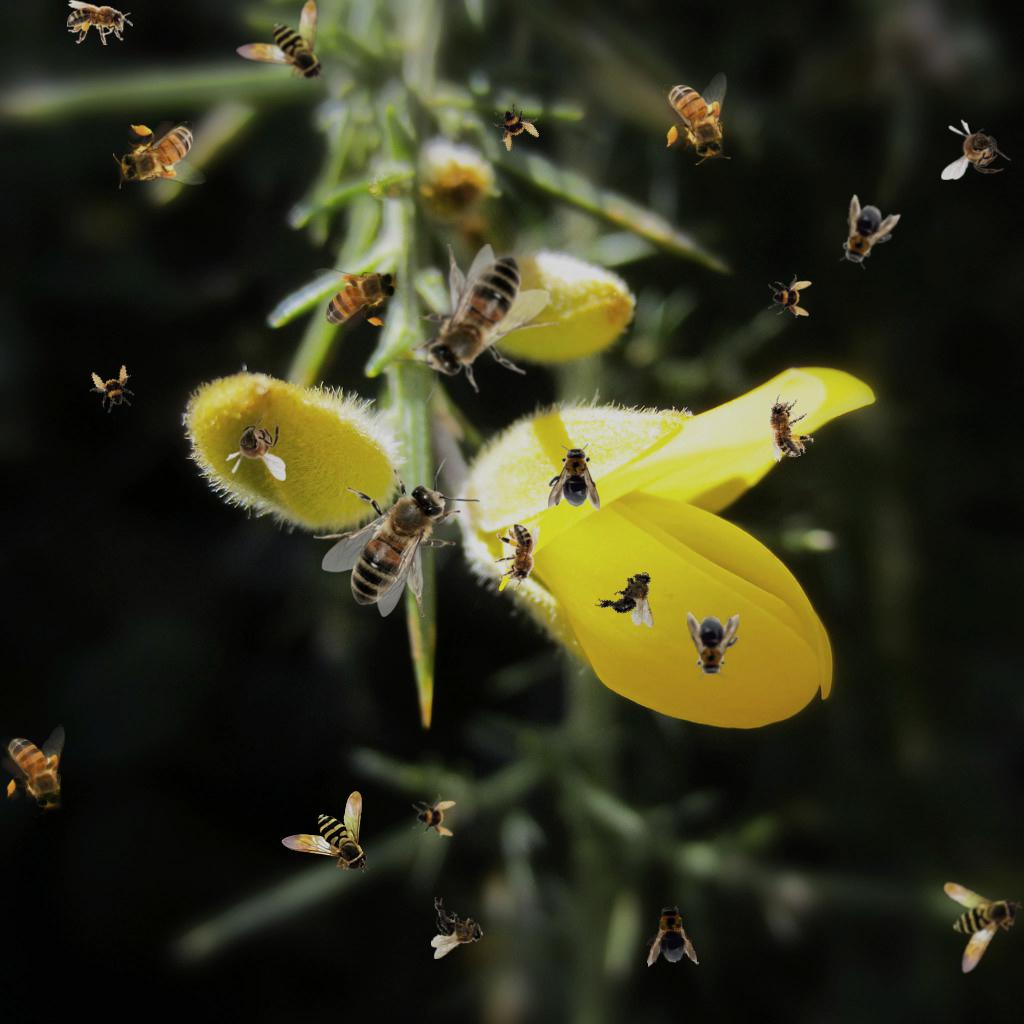Bee: (313, 455, 480, 617), (392, 244, 559, 406), (916, 873, 1024, 985), (236, 0, 324, 82), (281, 791, 369, 873), (312, 263, 405, 331), (2, 724, 70, 817), (113, 121, 206, 189), (663, 72, 731, 165), (828, 193, 902, 277), (593, 559, 670, 631), (755, 387, 819, 464), (641, 897, 699, 971), (941, 119, 1011, 180), (225, 411, 286, 481), (485, 94, 547, 156), (687, 612, 739, 680), (548, 443, 600, 511), (431, 897, 484, 959), (84, 361, 140, 417), (495, 524, 540, 590), (67, 0, 133, 45), (768, 274, 812, 318), (412, 794, 456, 838)
